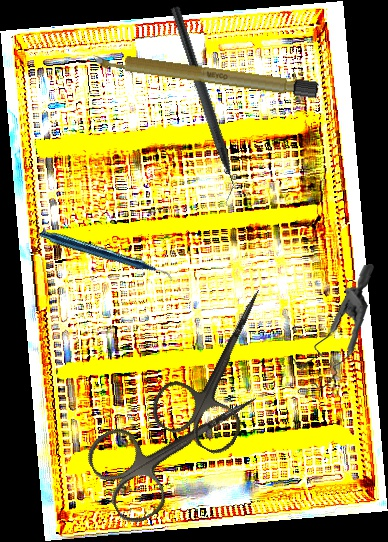Chopper: (156, 5, 247, 207)
Handpiece: (37, 185, 174, 329)
Iris Scissors: (80, 359, 281, 530), (144, 270, 301, 460)
Scalpel Handle: (90, 49, 320, 99)
Speculum: (286, 264, 383, 391)
